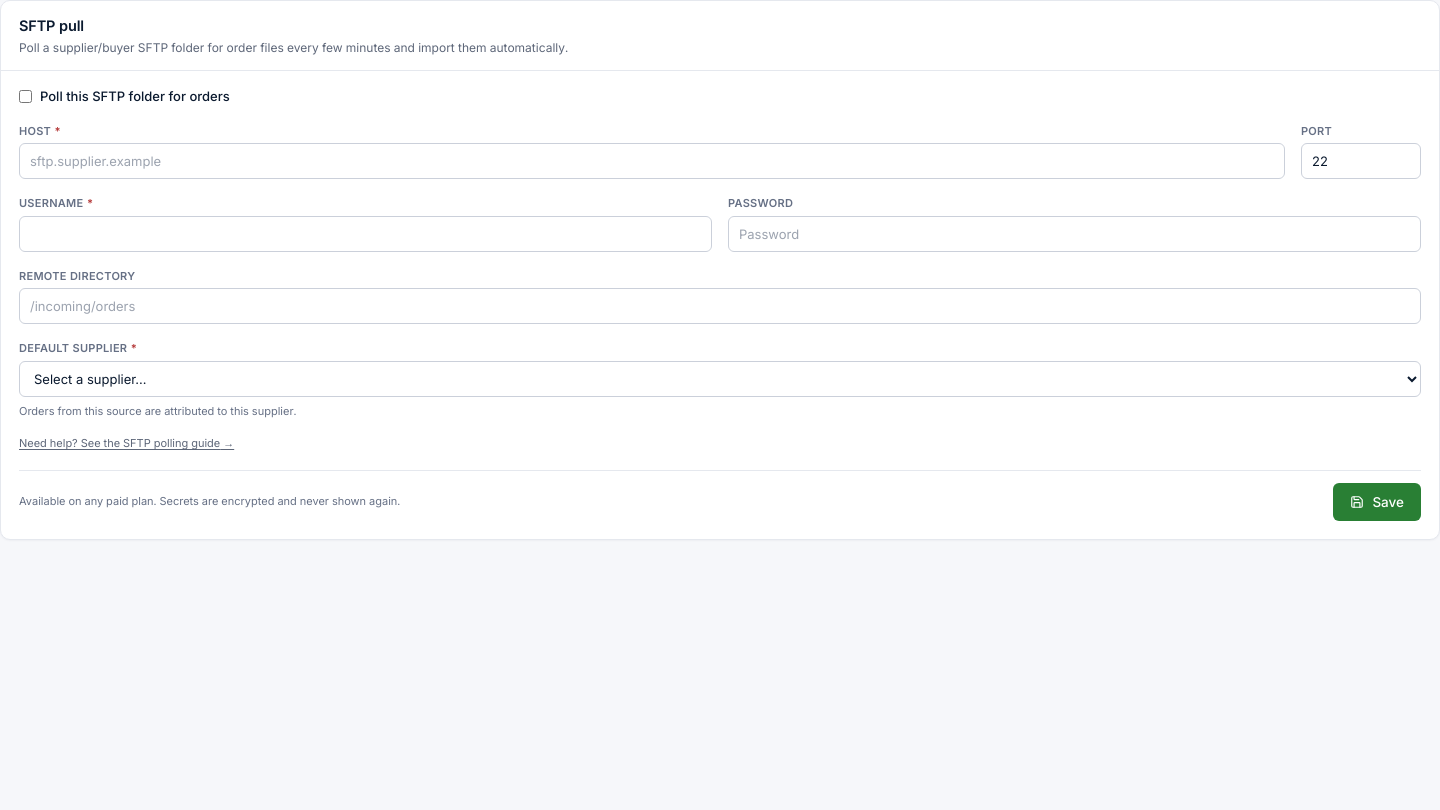
sftp panel — a save failure is a sentence, not a status line › still forwards the sentences it is meant to — the arm is not a blanket swallow
Expected: the checkbox labelled "Poll this SFTP folder for orders" is shown, [19, 90, 32, 103]
Click the button "Save". click: x=1377, y=502
box: [1333, 483, 1421, 521]
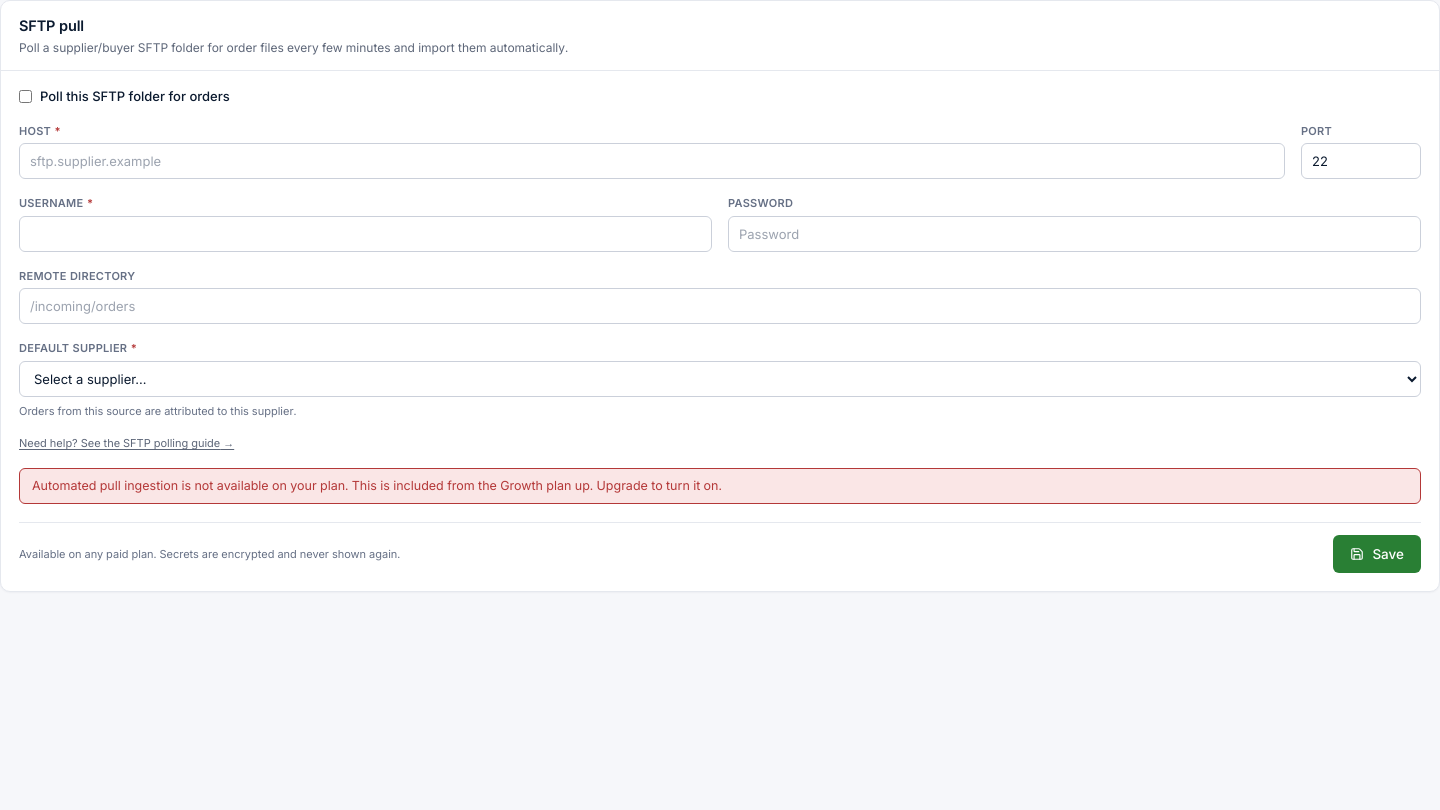
Expected: the message shows "Automated pull ingestion is not available on your plan", [32, 478, 722, 493]
Expected: the message shows "Growth", [32, 478, 722, 493]
